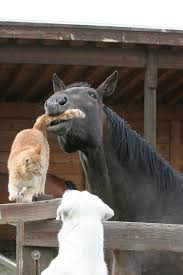Cat: (4, 107, 87, 202)
Dog: (42, 188, 118, 275)
Horse: (42, 69, 182, 189)
